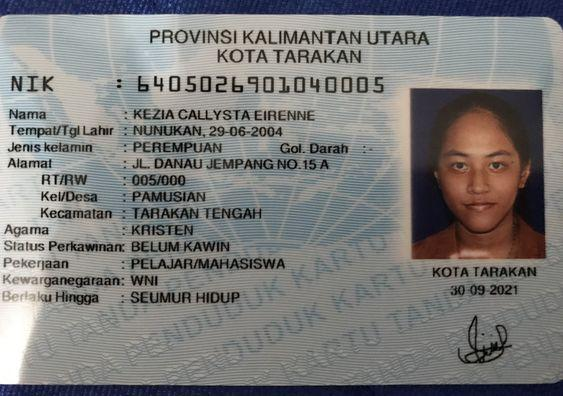ID-card: (4, 18, 557, 380)
